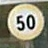limite 50: (6, 3, 45, 40)
